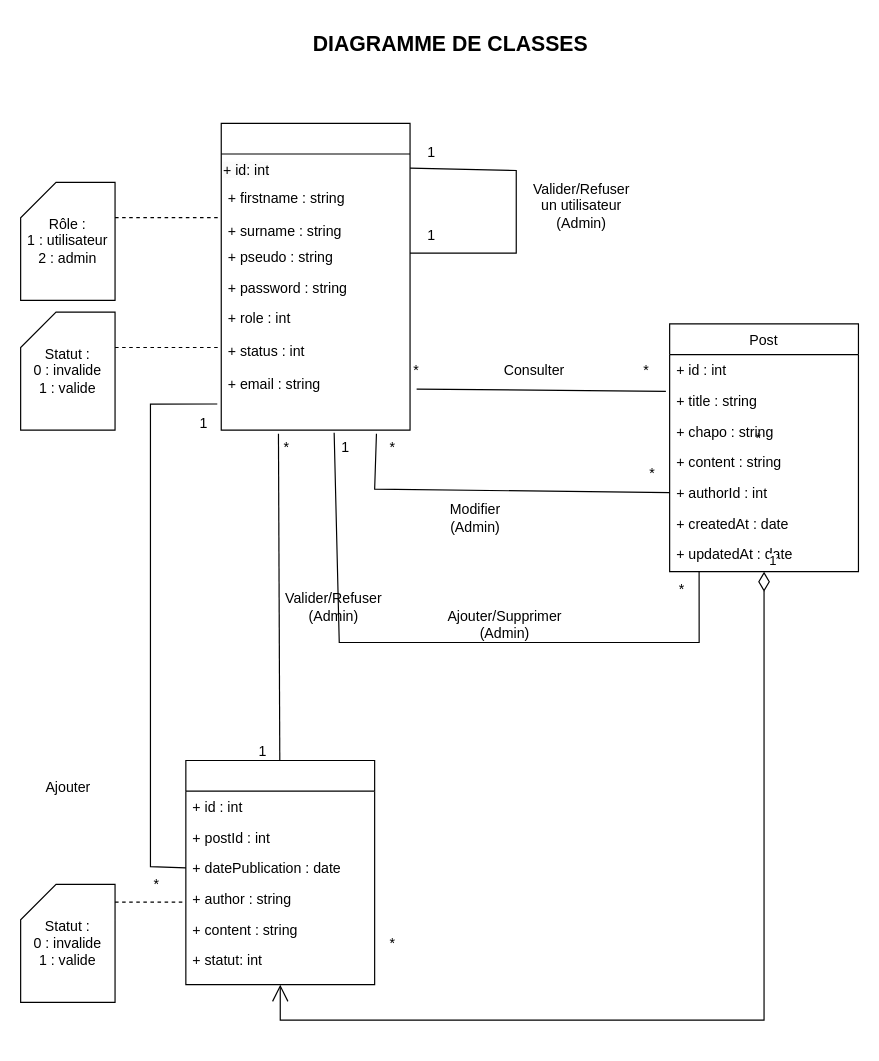
Some shapes in this 879 by 1061 pixel diagram are drawn without their labels. Here are the shapes that lost their labels. From the top down, the box of each, then its label:
(220, 122, 410, 430): Person
(185, 759, 375, 985): Commentaire
